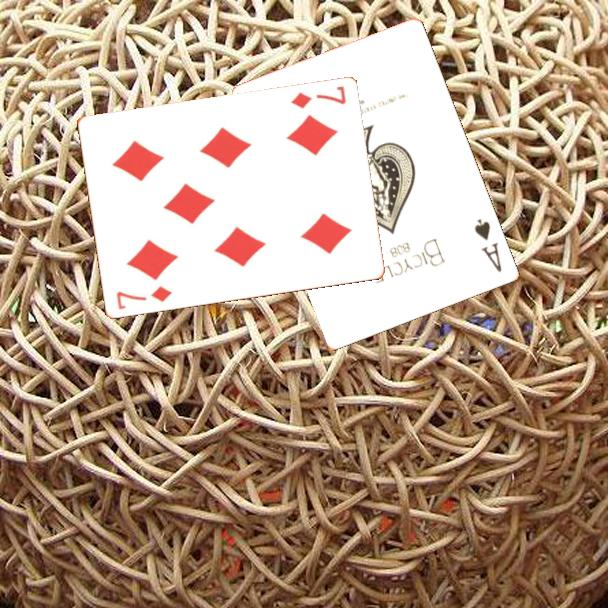d07: (113, 283, 174, 313), (287, 83, 348, 112)
s01: (471, 215, 505, 275)
